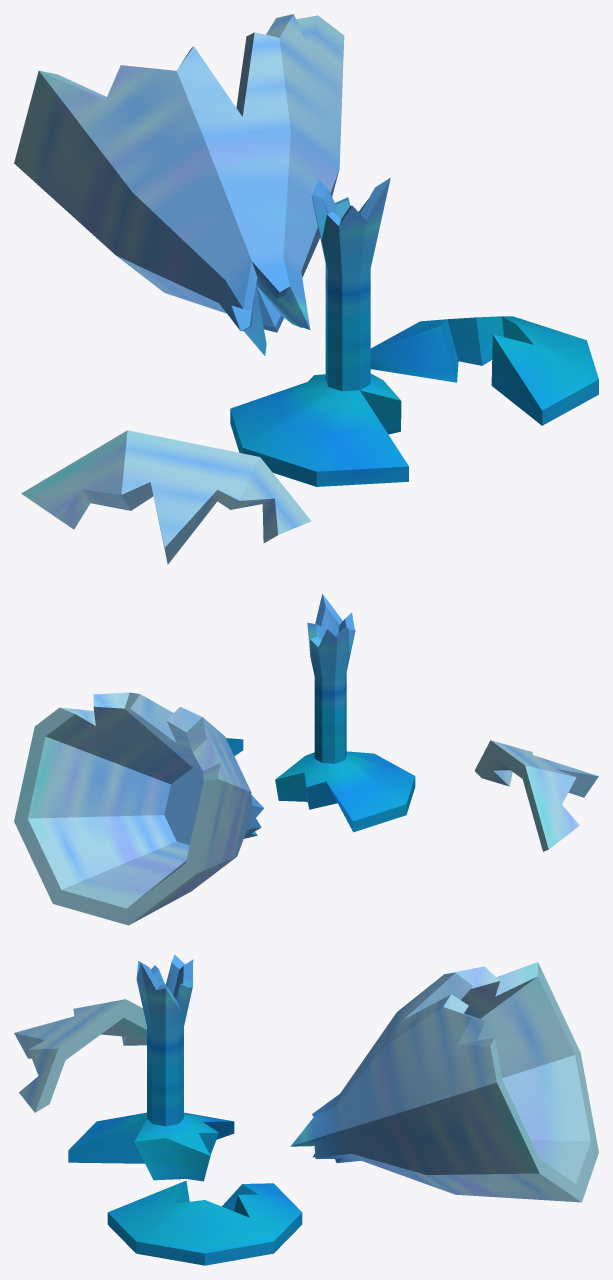
The model's file is reallyBrokenGlass.glb.
3 views of the same model, one above another, from view 1: azimuth 30°, elevation 25°; view 2: azimuth 150°, elevation 25°; view 3: azimuth 270°, elevation 25° (orthographic). The views are drawn at different scales.
Parts seen in each view (by area): view 1: brokenGlass.005; view 2: brokenGlass.005; view 3: brokenGlass.005.
Boxes of the visible parts, x1,y1,x2,y2 form: brokenGlass.005: (14,14,598,564); brokenGlass.005: (14,594,598,925); brokenGlass.005: (14,954,598,1265).
Bounding box in the file's own units: 1.38 × 0.6106 × 1.5.
1 material, 1 textured.
